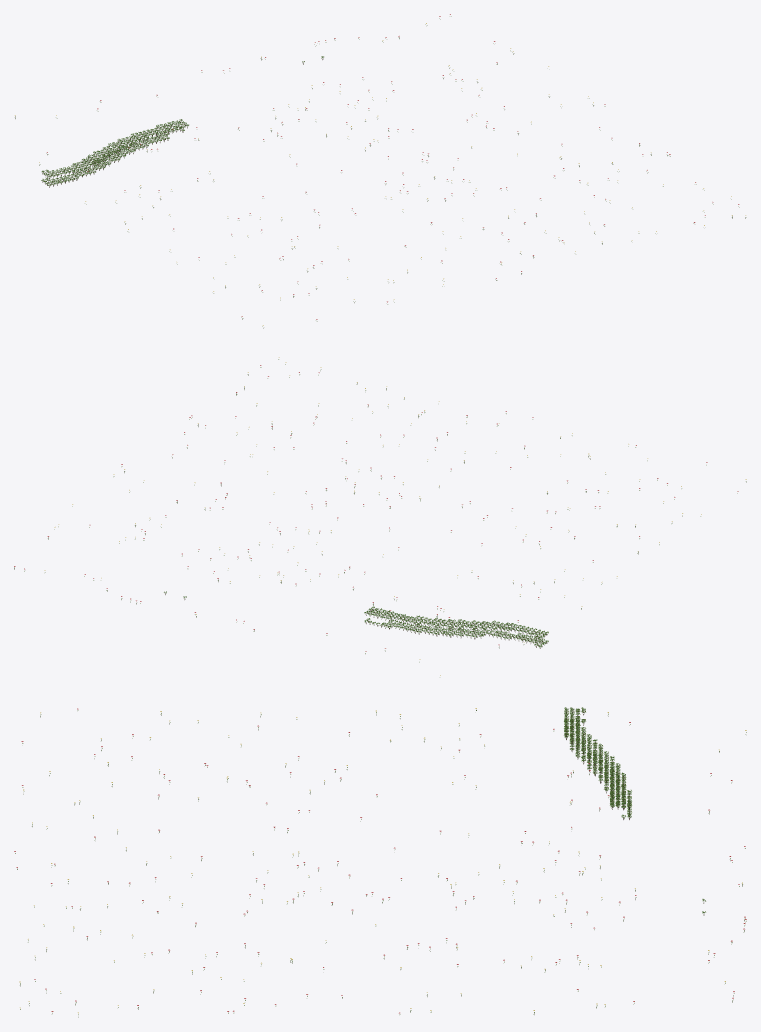
3 renders of one model, top to bottom at view 1: azimuth 30°, elevation 25°; view 2: azimuth 150°, elevation 25°; view 3: azimuth 270°, elevation 25°, orthographic. The views are drawn at different scales.
Visible parts, largest first — view 1: GROUND_FLORA_s_-5_-1; view 2: GROUND_FLORA_s_-5_-1; view 3: GROUND_FLORA_s_-5_-1.
Part boxes in pixels (x1=…): GROUND_FLORA_s_-5_-1: x1=15, y1=14, x2=746, y2=328; GROUND_FLORA_s_-5_-1: x1=14, y1=357, x2=746, y2=675; GROUND_FLORA_s_-5_-1: x1=14, y1=707, x2=746, y2=1017.
Bounding box in the file's own units: 127 × 2.97 × 128.
